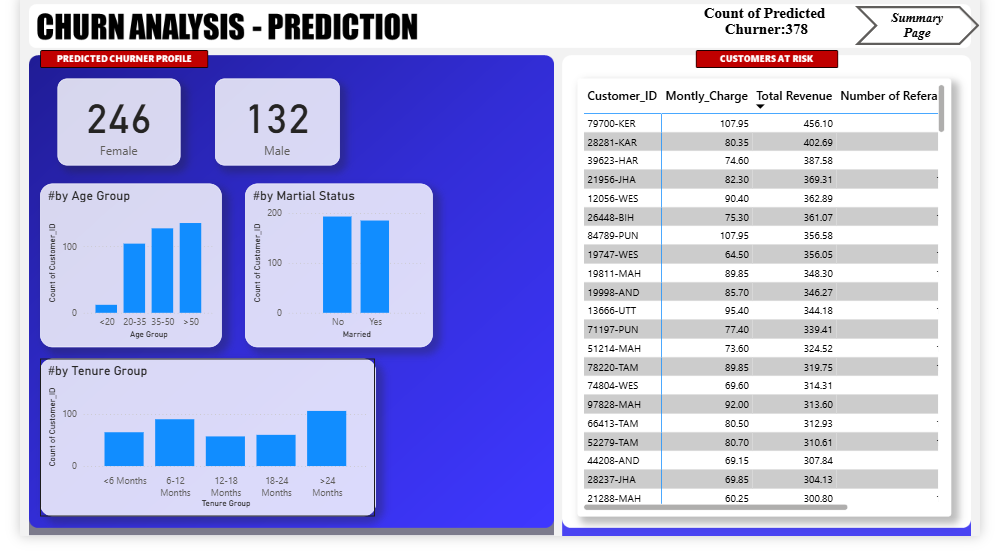

The page's visual inventory and layout, read from the dashboard file:
{"tool":"powerbi","page":{"name":"Page 1","canvas":[1280,720],"ordinal":2},"visuals":[{"type":"pivotTable","fields":{"Rows":["Predictions.Customer_ID"],"Values":["Sum(Predictions.Monthly_Charge)","Sum(Predictions.Total_Revenue)","Sum(Predictions.Number_of_Referrals)","Sum(Predictions.Total_Refunds)"]},"box":[744,110,498,584],"z":0},{"type":"card","fields":{"Values":["tbl_measures.Title Predicted Churner"]},"box":[898,0,194,66],"z":1000},{"type":"card","fields":{"Values":["Mapping_AgeGrp.Count_Female"]},"box":[50,110,164,116],"z":2000},{"type":"card","fields":{"Values":["Mapping_AgeGrp.Count_Male"]},"box":[260,110,166,116],"z":3000},{"type":"clusteredColumnChart","title":"#by  Age Group","fields":{"Category":["Mapping_AgeGrp.Age  Group"],"Y":["CountNonNull(Predictions.Customer_ID)"]},"box":[26,250,242,218],"z":4000},{"type":"clusteredColumnChart","title":"#by Martial Status","fields":{"Category":["Predictions.Married"],"Y":["CountNonNull(Predictions.Customer_ID)"]},"box":[300,250,250,218],"z":5000},{"type":"clusteredColumnChart","title":"#by Tenure Group","fields":{"Category":["Mapping_TenureGrp.Tenure Group"],"Y":["CountNonNull(Predictions.Customer_ID)"]},"box":[26,484,448,210],"z":6000},{"type":"actionButton","title":"Summary Page","box":[1114,14,166,52],"z":7000}]}

Visuals, with their boxes in screenshot pixels (x1, y1, x2, y2), scaled from the page's 1280x720 canvas onto the 995x551 screenshot:
pivotTable - Predictions.Customer_ID x Sum(Predictions.Monthly_Charge): 578 84 965 531
card - tbl_measures.Title Predicted Churner: 698 0 849 51
card - Mapping_AgeGrp.Count_Female: 39 84 166 173
card - Mapping_AgeGrp.Count_Male: 202 84 331 173
"#by  Age Group" clusteredColumnChart: 20 191 208 358
"#by Martial Status" clusteredColumnChart: 233 191 428 358
"#by Tenure Group" clusteredColumnChart: 20 370 368 531
"Summary Page" actionButton: 866 11 994 51
